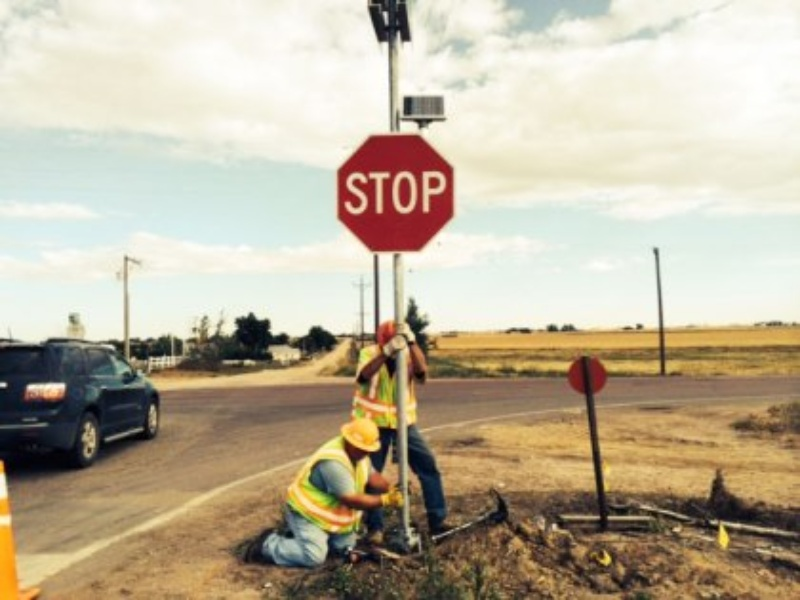stop sign: (332, 133, 458, 257)
